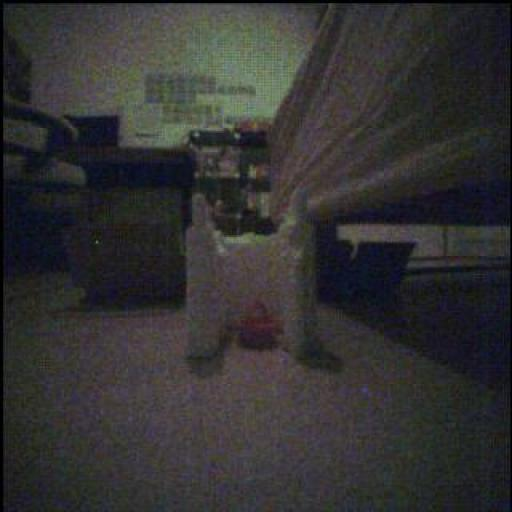basket: (235, 303, 284, 350)
